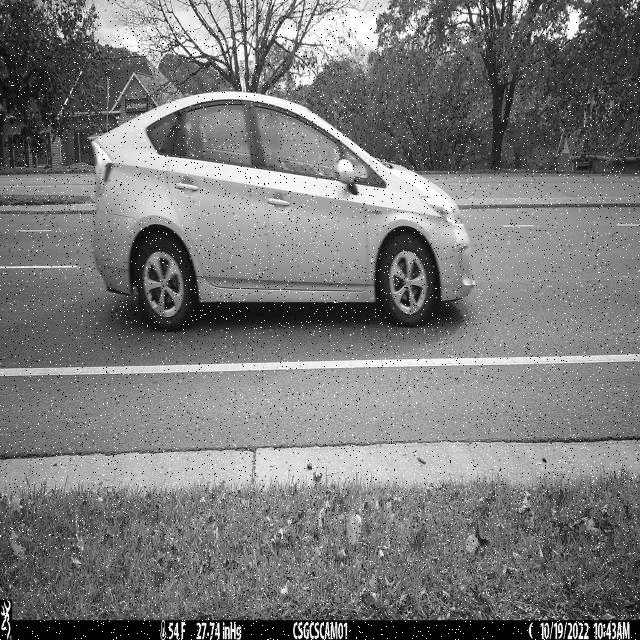Hatchback: (91, 91, 476, 333)
